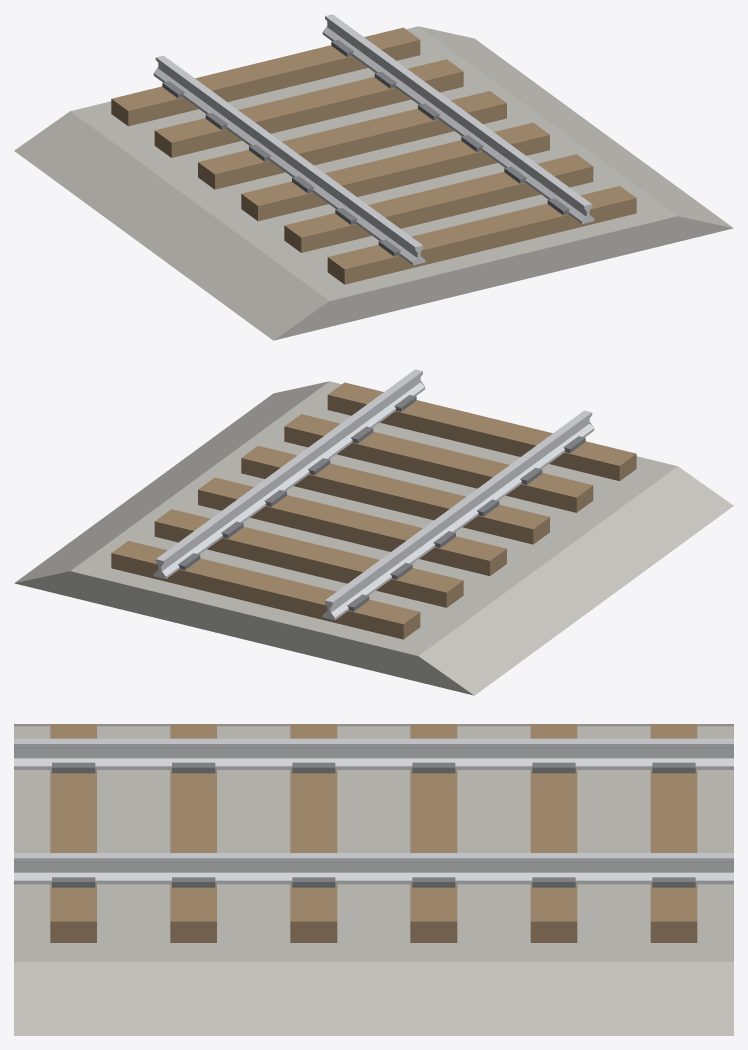
The model's file is steam-era-railway-and-rolling-stock-track-straight-4m-921a7240.glb.
3 views of the same model, one above another, from view 1: azimuth 30°, elevation 25°; view 2: azimuth 150°, elevation 25°; view 3: azimuth 270°, elevation 25° (orthographic). The views are drawn at different scales.
Parts seen in each view (by area): view 1: track-straight-4m; view 2: track-straight-4m; view 3: track-straight-4m.
Boxes of the visible parts, x1=… form: track-straight-4m: x1=14, y1=14, x2=733, y2=340; track-straight-4m: x1=14, y1=369, x2=733, y2=695; track-straight-4m: x1=14, y1=724, x2=733, y2=1035.
Bounding box in the file's own units: 4.1 × 0.5001 × 4.
